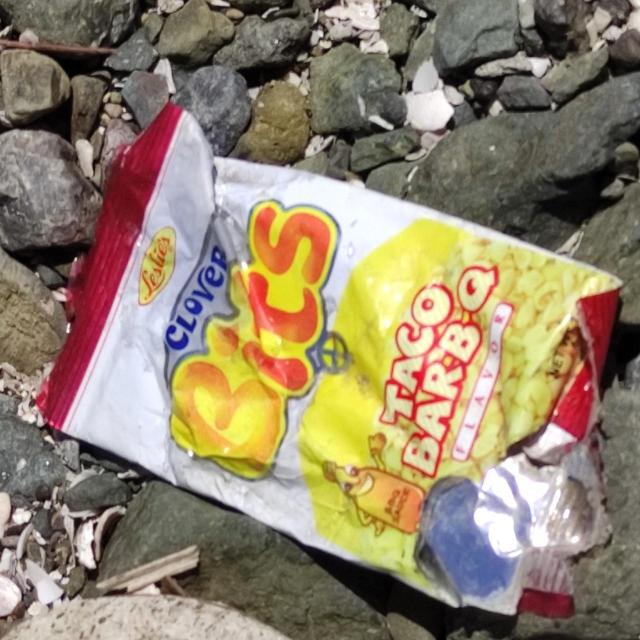plastic_waste: (36, 111, 622, 635)
